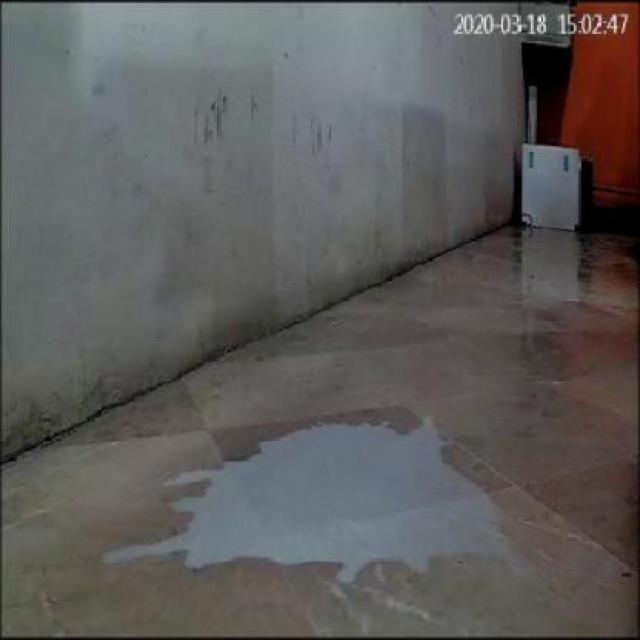spillage: (103, 424, 517, 583)
